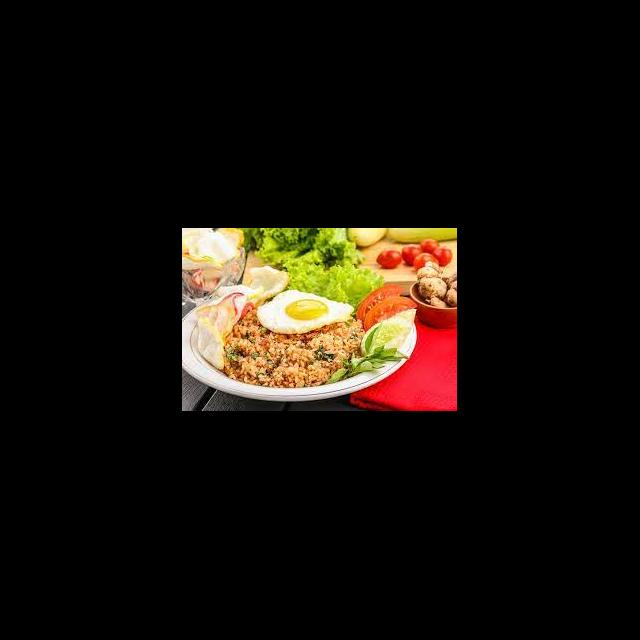food_waste: (230, 308, 356, 369)
